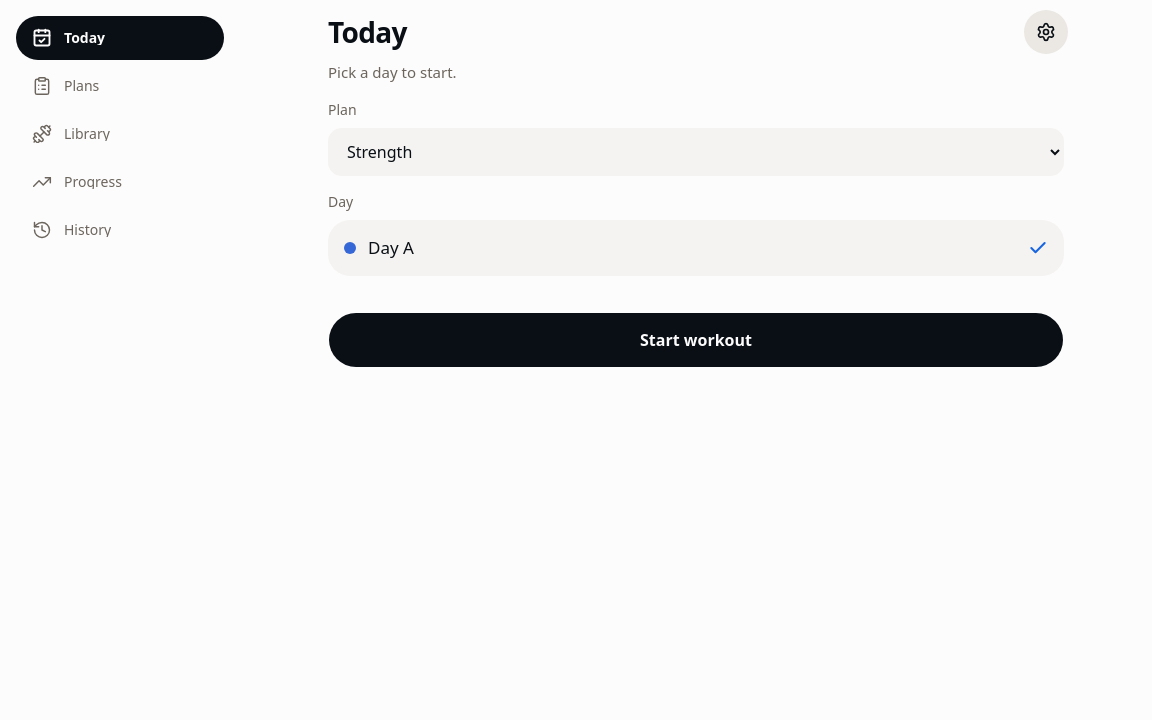
finishing with nothing done asks first
This screenshot has width=1152, height=720.
Click the button "Start workout".
click(696, 340)  # box [328, 312, 1064, 368]
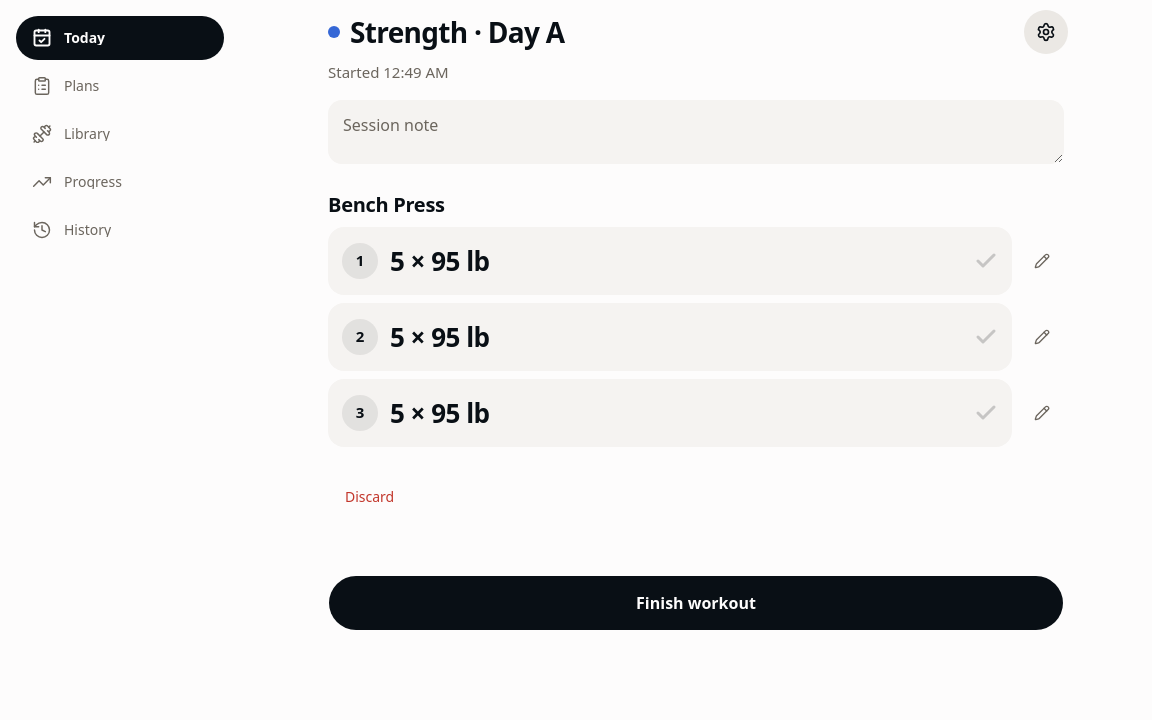
Click the button "Finish workout".
click(696, 602)  # box [328, 574, 1064, 630]
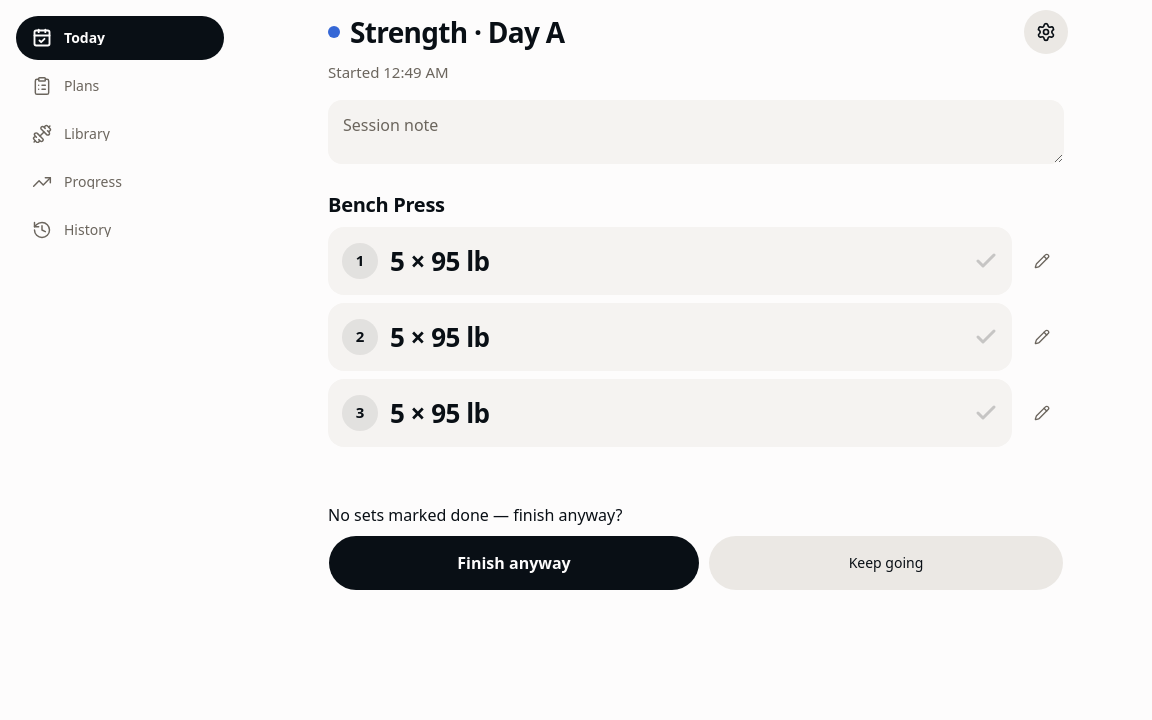
Expected: the text "No sets marked done — finish anyway?" is shown, [328, 504, 622, 526]
Click the button "Finish anyway".
click(514, 562)  # box [328, 534, 700, 590]
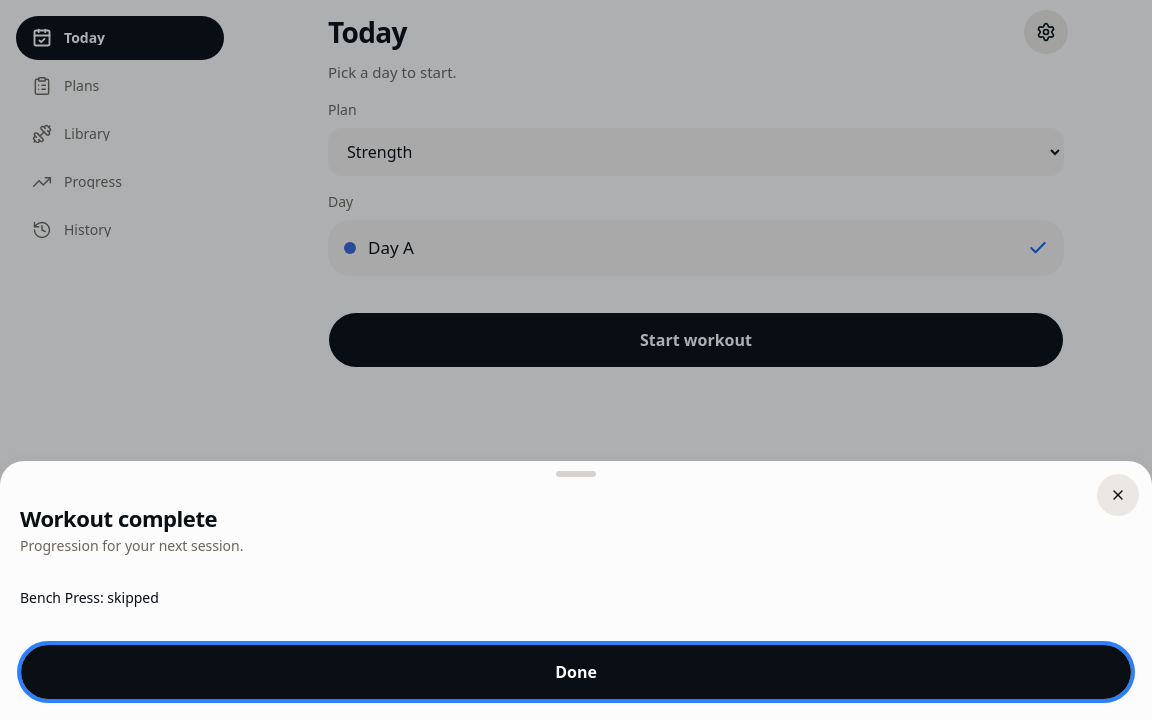
Expected: the list item "Bench Press: skipped" is shown, [20, 588, 159, 607]
